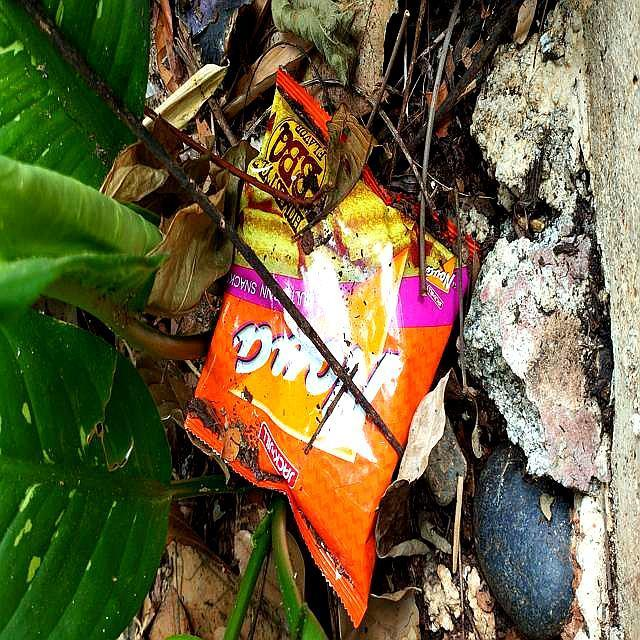Non-biodegradable: (181, 71, 474, 629)
